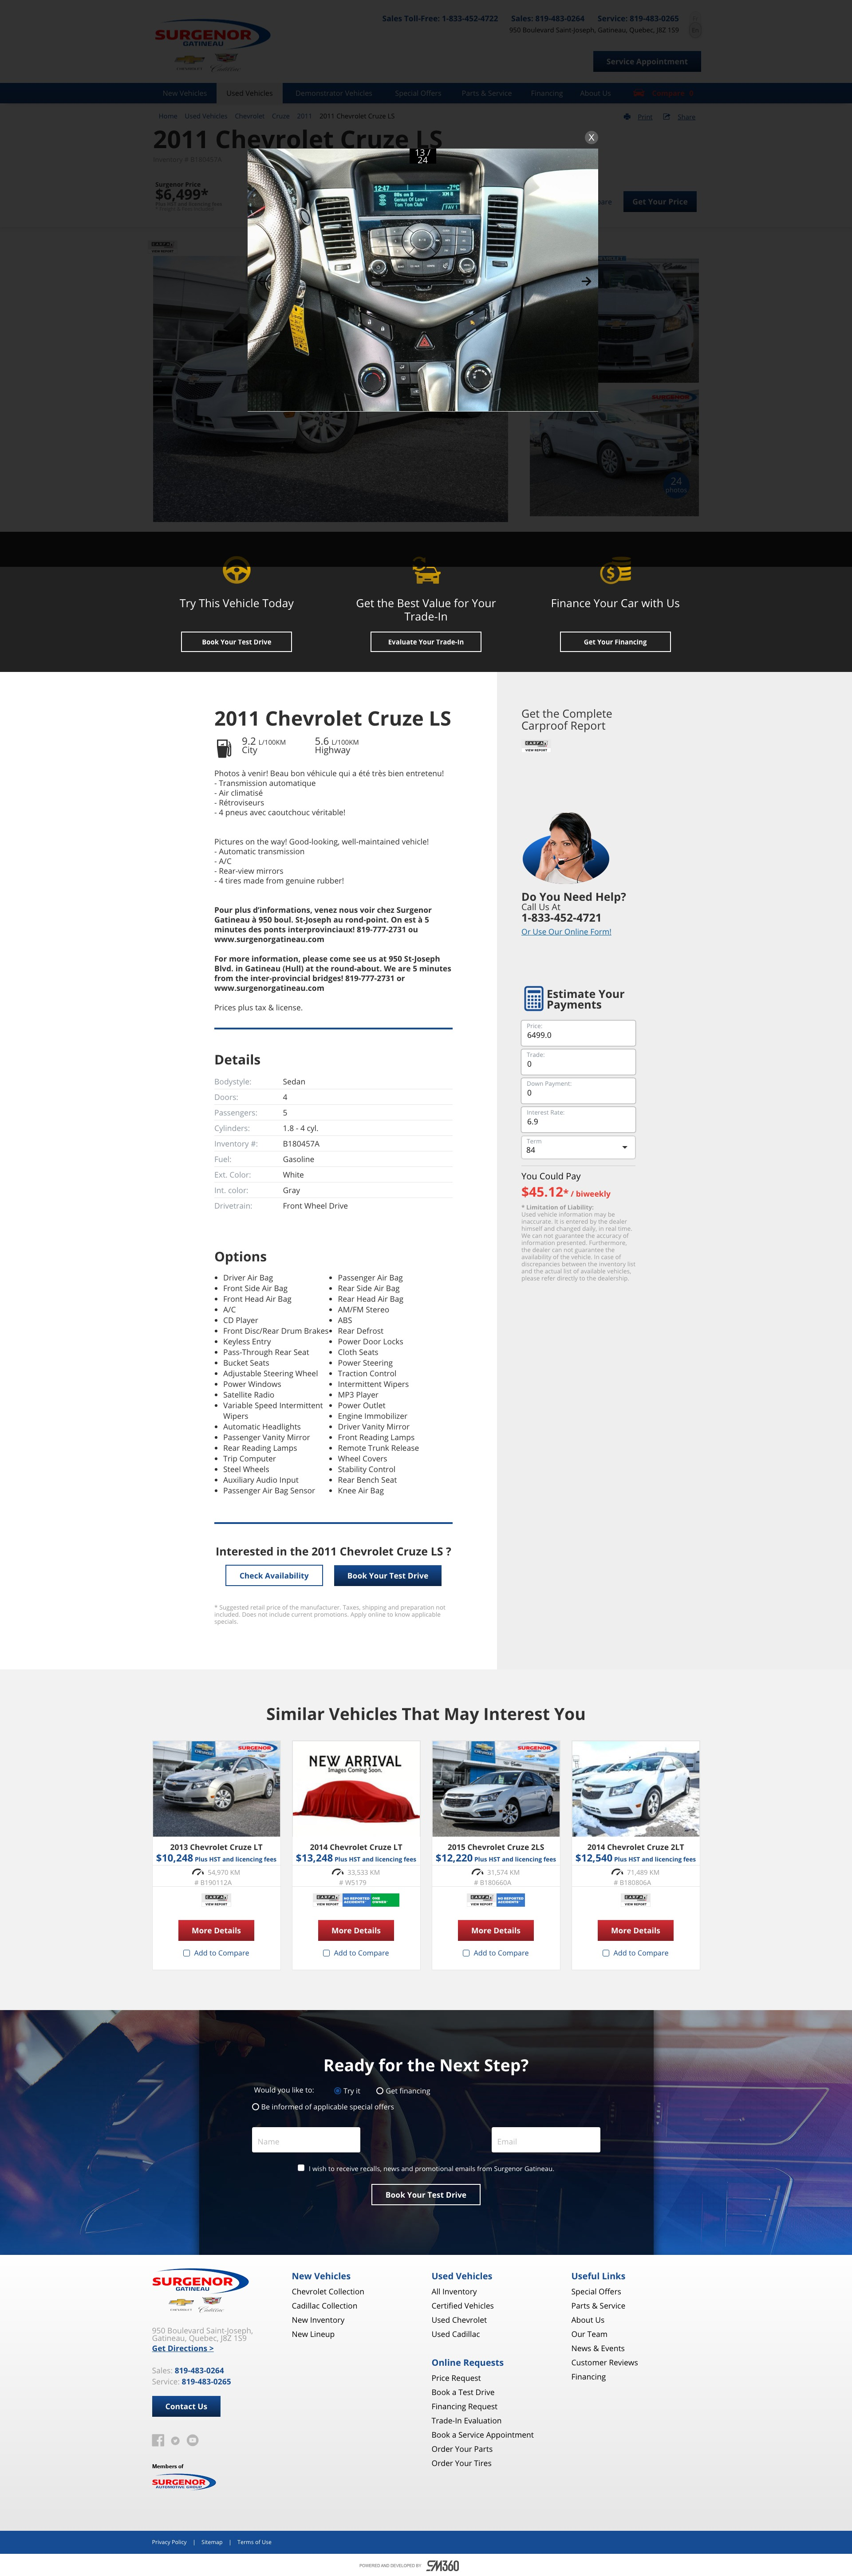car: (664, 473, 691, 499)
